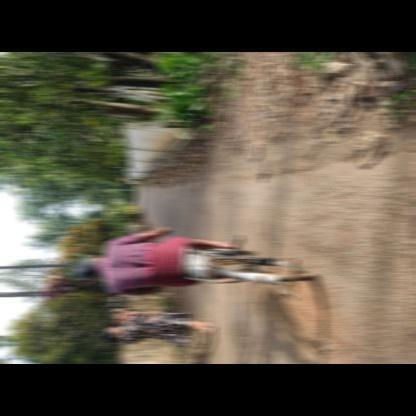Bicycle: (156, 218, 318, 312)
